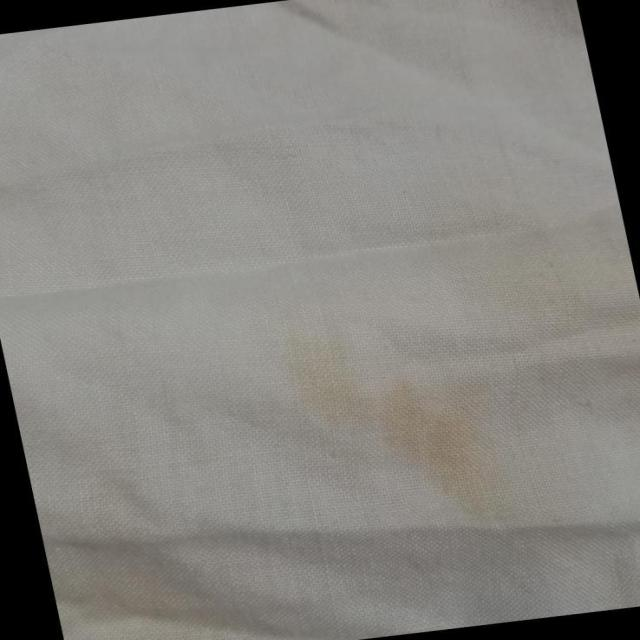stain: (266, 302, 541, 545), (502, 214, 640, 408)
